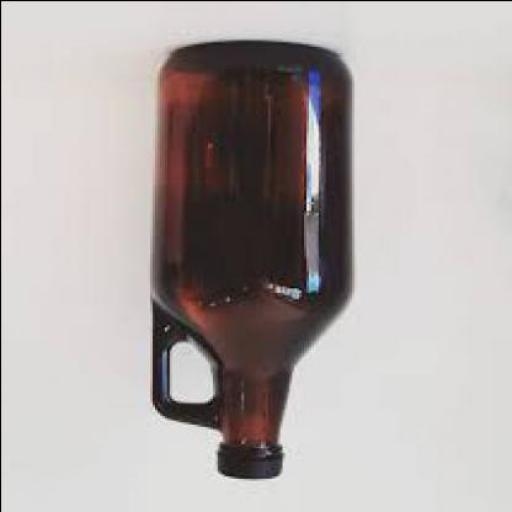glass: (149, 40, 353, 458)
plastic: (219, 445, 283, 479)
